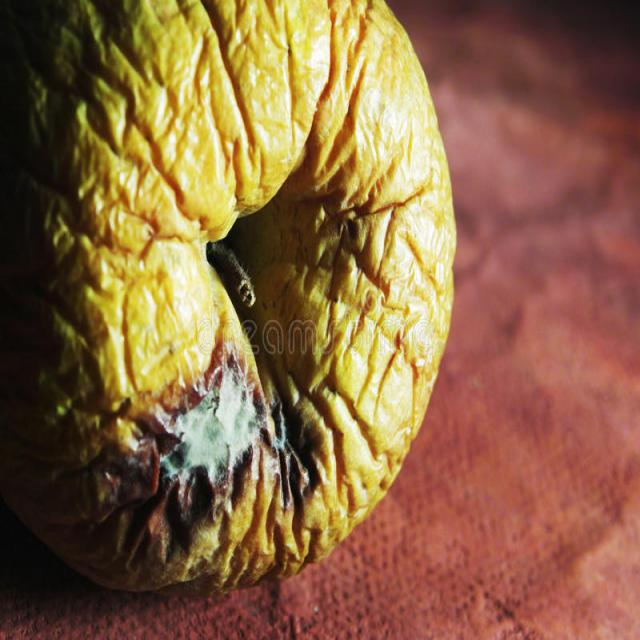Rotten: (0, 0, 450, 558)
